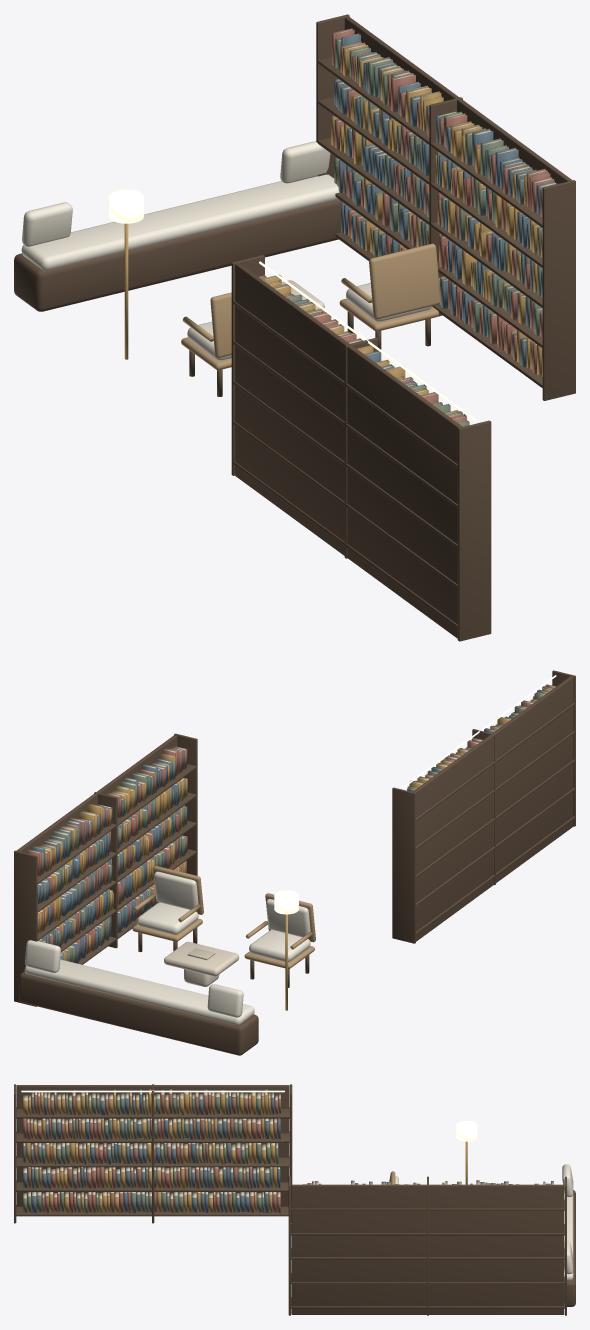
The model's file is room-library.glb.
3 renders of one model, top to bottom at view 1: azimuth 30°, elevation 25°; view 2: azimuth 150°, elevation 25°; view 3: azimuth 270°, elevation 25°, orthographic. The views are drawn at different scales.
Visible parts, largest first — view 1: library__honey ash, library__linen, library__library slate cloth, library__library ochre cloth, library__library clay cloth, library__library olive cloth, library__pale oak, library__library warm paper edges, library__estate warm opal diffuser; view 2: library__honey ash, library__linen, library__library slate cloth, library__library ochre cloth, library__library clay cloth, library__library olive cloth, library__pale oak, library__library warm paper edges, library__honed travertine, library__estate warm opal diffuser; view 3: library__honey ash, library__library ochre cloth, library__library clay cloth, library__library olive cloth, library__library slate cloth, library__library warm paper edges, library__estate warm opal diffuser, library__linen.
Part boxes in pixels (bbox=[...]): library__honey ash: bbox=[14, 14, 575, 641]; library__linen: bbox=[21, 141, 432, 360]; library__library slate cloth: bbox=[293, 33, 557, 415]; library__library ochre cloth: bbox=[261, 42, 542, 417]; library__library clay cloth: bbox=[258, 28, 554, 422]; library__library olive cloth: bbox=[273, 38, 542, 426]; library__pale oak: bbox=[181, 243, 440, 370]; library__library warm paper edges: bbox=[259, 29, 556, 423]; library__estate warm opal diffuser: bbox=[109, 189, 476, 421]; library__honey ash: bbox=[14, 670, 575, 1055]; library__linen: bbox=[24, 871, 310, 1024]; library__library slate cloth: bbox=[31, 689, 548, 963]; library__library ochre cloth: bbox=[37, 685, 556, 961]; library__library clay cloth: bbox=[26, 684, 555, 961]; library__library olive cloth: bbox=[38, 693, 543, 962]; library__pale oak: bbox=[132, 866, 315, 968]; library__library warm paper edges: bbox=[27, 685, 555, 959]; library__honed travertine: bbox=[164, 941, 239, 986]; library__estate warm opal diffuser: bbox=[274, 675, 556, 914]; library__honey ash: bbox=[14, 1084, 575, 1315]; library__library ochre cloth: bbox=[23, 1089, 538, 1212]; library__library clay cloth: bbox=[23, 1089, 553, 1212]; library__library olive cloth: bbox=[23, 1090, 550, 1213]; library__library slate cloth: bbox=[23, 1089, 545, 1212]; library__library warm paper edges: bbox=[23, 1089, 553, 1198]; library__estate warm opal diffuser: bbox=[21, 1090, 477, 1141]; library__linen: bbox=[395, 1164, 573, 1280].
Size of the model in its own units: 3.84 by 2.28 by 8.96.
